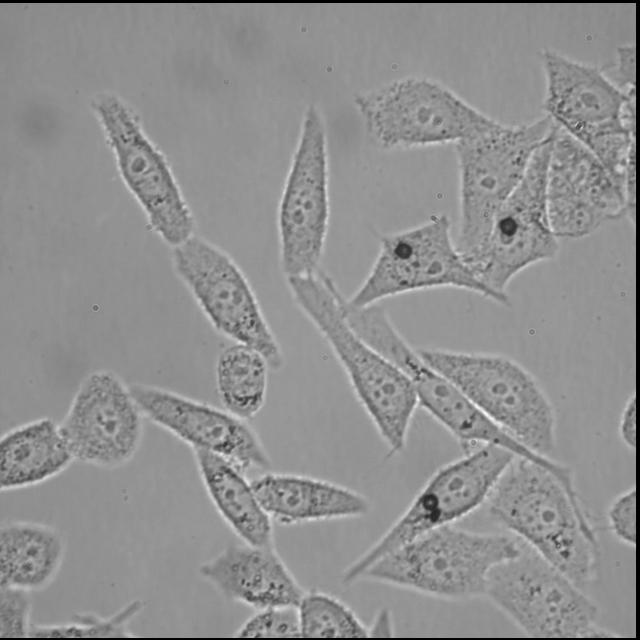microbeads: (496, 210, 524, 240), (418, 485, 446, 513), (392, 237, 418, 265)
